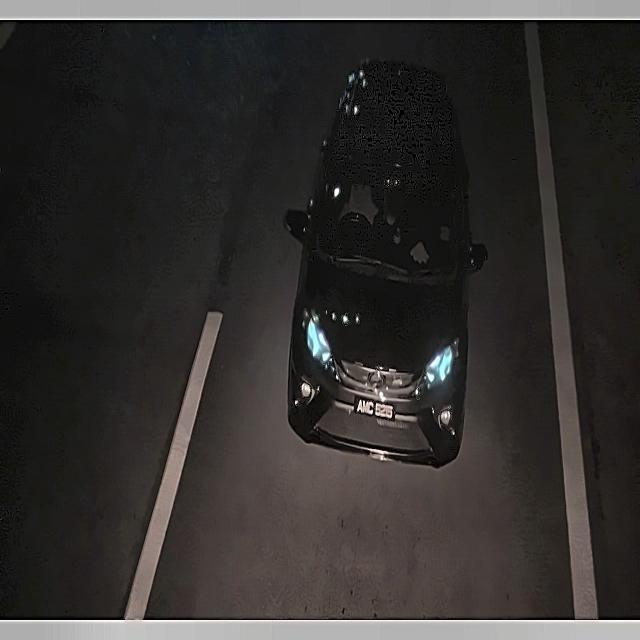car: (351, 388, 398, 427)
